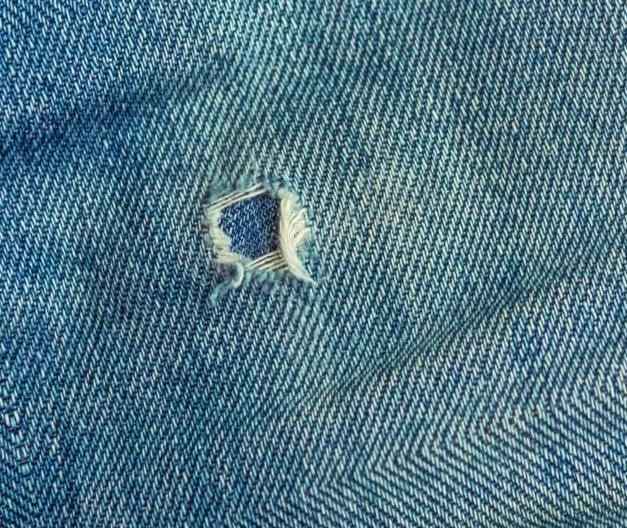hole: (188, 178, 323, 296)
